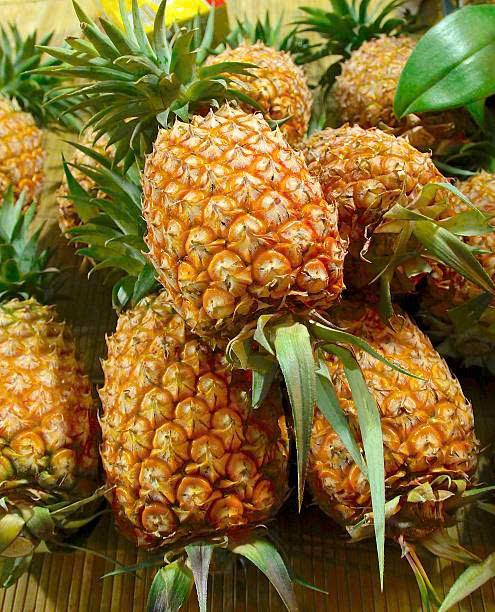pineapple: (134, 96, 352, 360), (101, 282, 298, 574), (297, 305, 475, 556), (3, 286, 97, 543), (311, 122, 456, 284)
